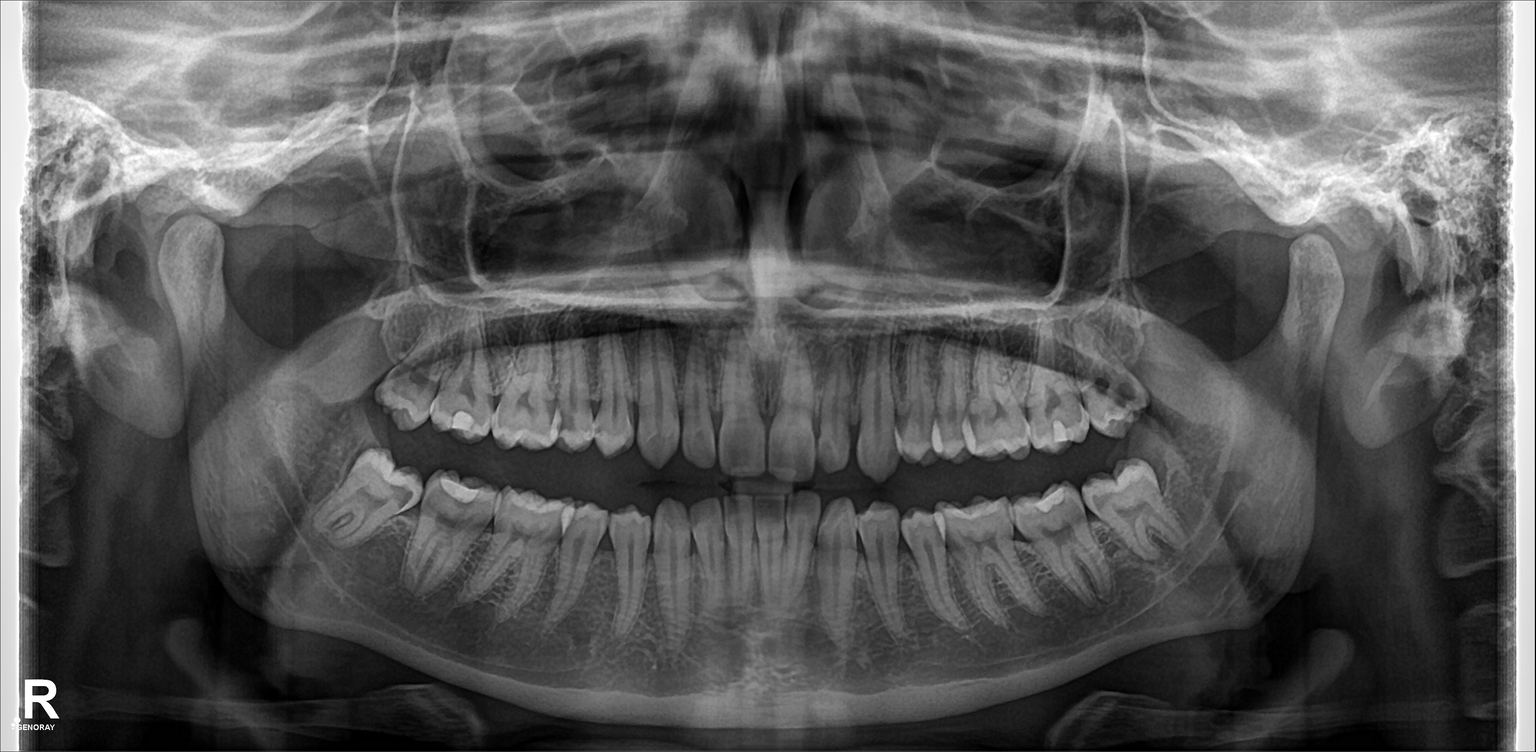Dental Caries: (1093, 369, 1144, 408), (987, 393, 1012, 428), (402, 367, 432, 395)
Impacted Third Molar: (320, 467, 416, 544)
